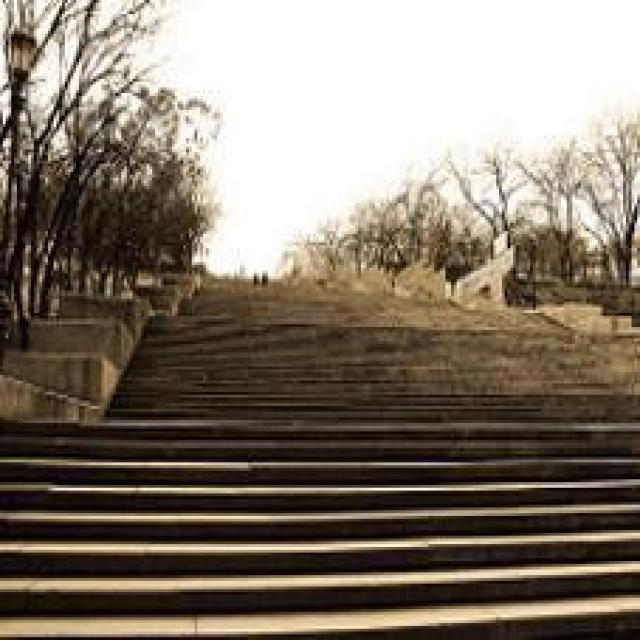upstair: (63, 401, 576, 616)
